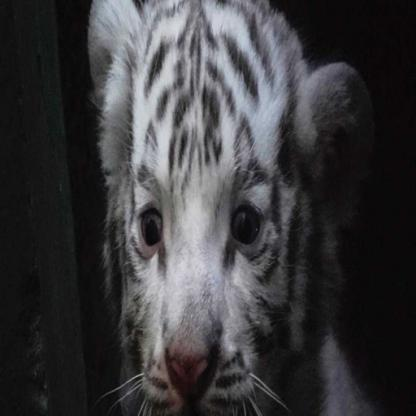Tiger: (58, 0, 415, 415)
